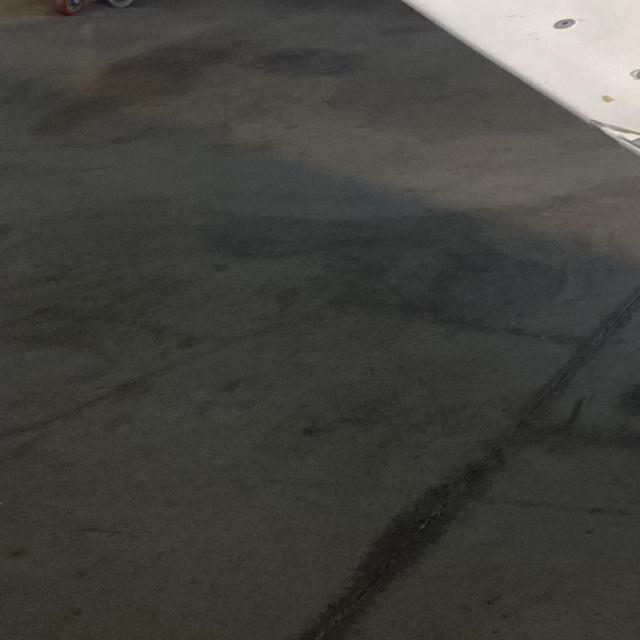Paint-off: (607, 129, 640, 158)
Scratch: (596, 125, 640, 157)
